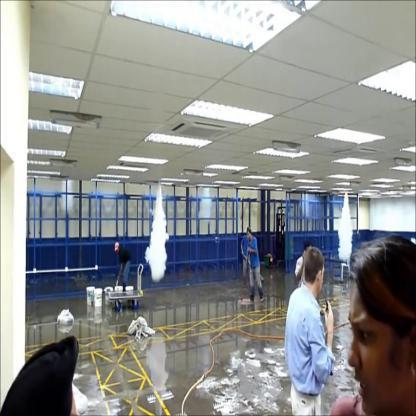smoke: (144, 182, 170, 288), (333, 194, 353, 270)
